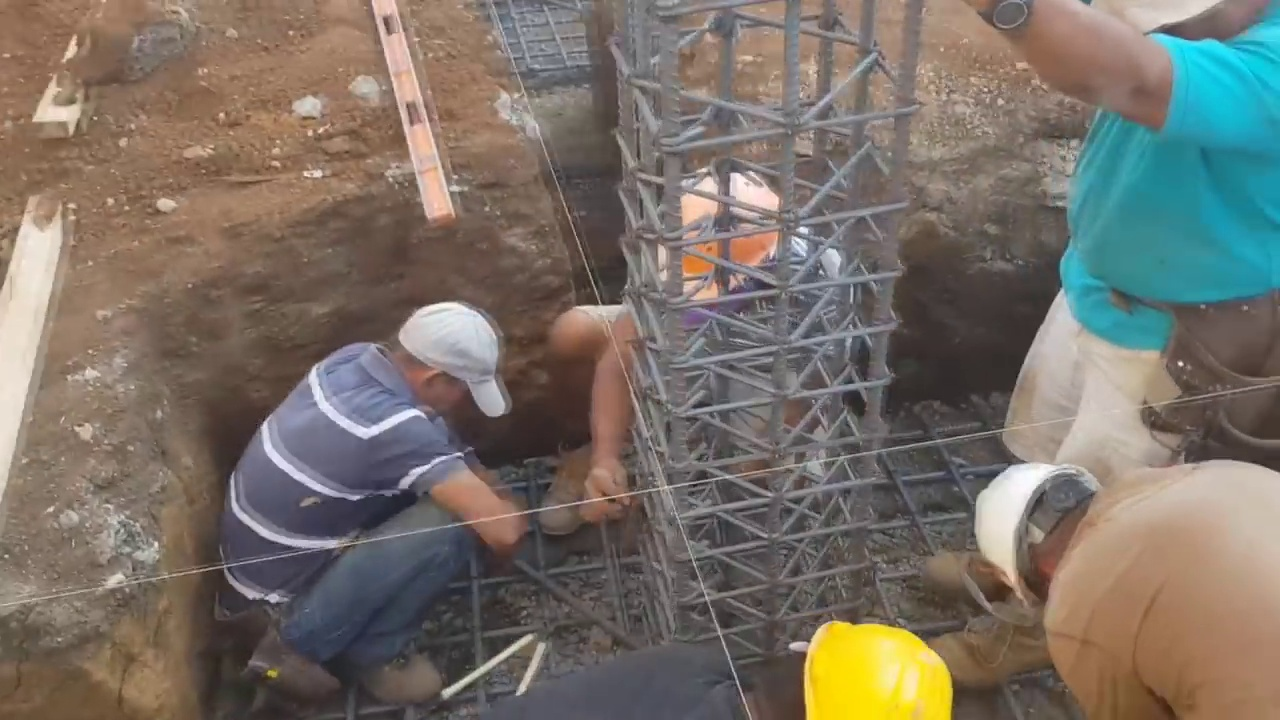helmet: (972, 465, 1098, 606), (656, 169, 784, 305), (800, 618, 952, 719)
helmet-off: (393, 306, 508, 433)
helmet-on: (968, 449, 1130, 608), (730, 617, 955, 718), (657, 168, 805, 308)
person: (932, 1, 1280, 705), (221, 298, 529, 720), (538, 165, 879, 534), (969, 427, 1280, 718), (451, 618, 956, 719)
